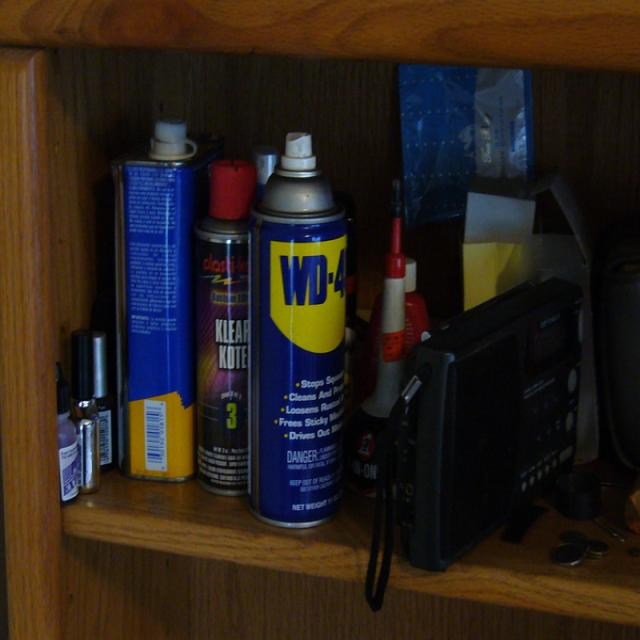container -bottle- tool: (113, 120, 222, 482), (249, 134, 346, 526), (195, 160, 255, 494), (345, 181, 405, 495), (71, 330, 99, 492), (92, 331, 117, 472), (56, 363, 78, 504), (356, 293, 382, 402), (252, 144, 279, 203)
